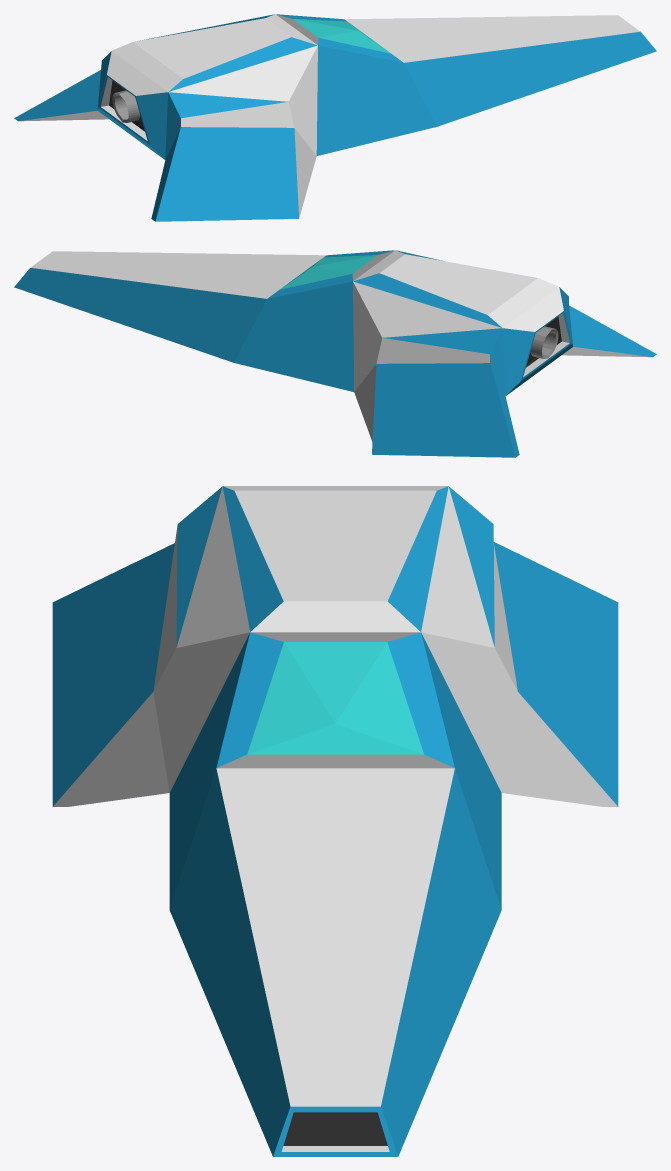
The model's file is ship3.fbx.
3 views of the same model, one above another, from view 1: azimuth 30°, elevation 25°; view 2: azimuth 150°, elevation 25°; view 3: azimuth 270°, elevation 25° (orthographic). The views are drawn at different scales.
Visible parts, largest first — view 1: Cube; view 2: Cube; view 3: Cube.
Part boxes in pixels (left/top/right/bottom): Cube: left=14, top=14, right=656, bottom=221; Cube: left=14, top=250, right=656, bottom=457; Cube: left=52, top=486, right=618, bottom=1156.
Size of the model in its own units: 774 by 169 by 341.
